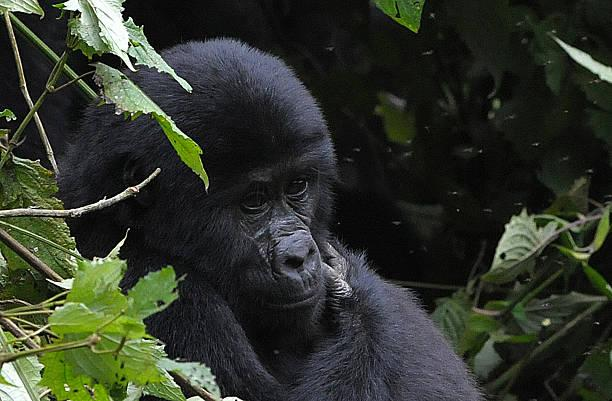goriile_montagne: (56, 34, 510, 401)
